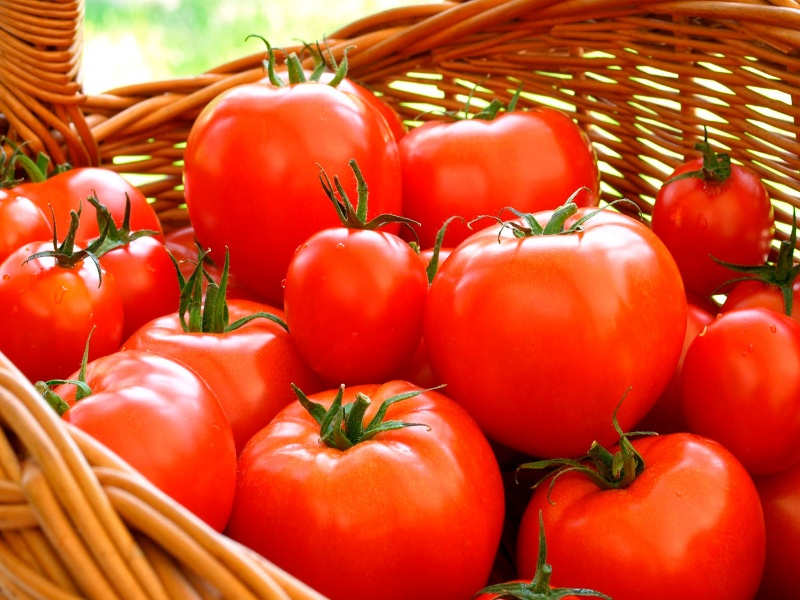Tomate: (427, 206, 695, 455), (236, 380, 506, 599), (186, 68, 413, 302), (517, 433, 766, 600), (49, 350, 240, 541), (120, 292, 329, 442), (404, 107, 602, 246), (284, 228, 429, 386), (682, 312, 800, 482), (1, 169, 167, 286), (2, 243, 131, 386), (652, 157, 774, 294), (82, 232, 199, 341), (754, 454, 799, 600), (723, 270, 800, 332)
